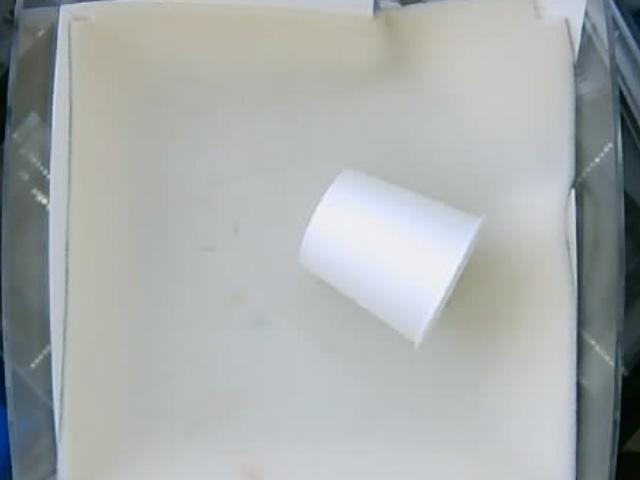Cup: (297, 169, 490, 353)
